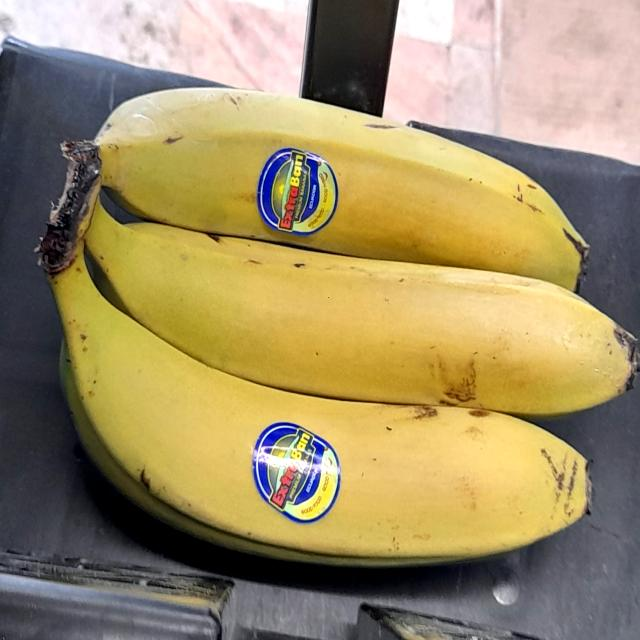banana: (23, 41, 640, 568), (46, 44, 614, 292)
